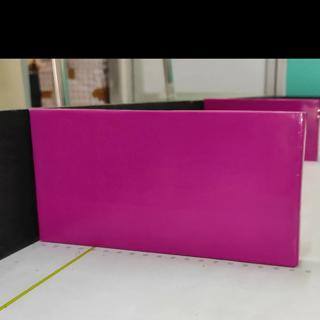xparking: (39, 109, 302, 265)
